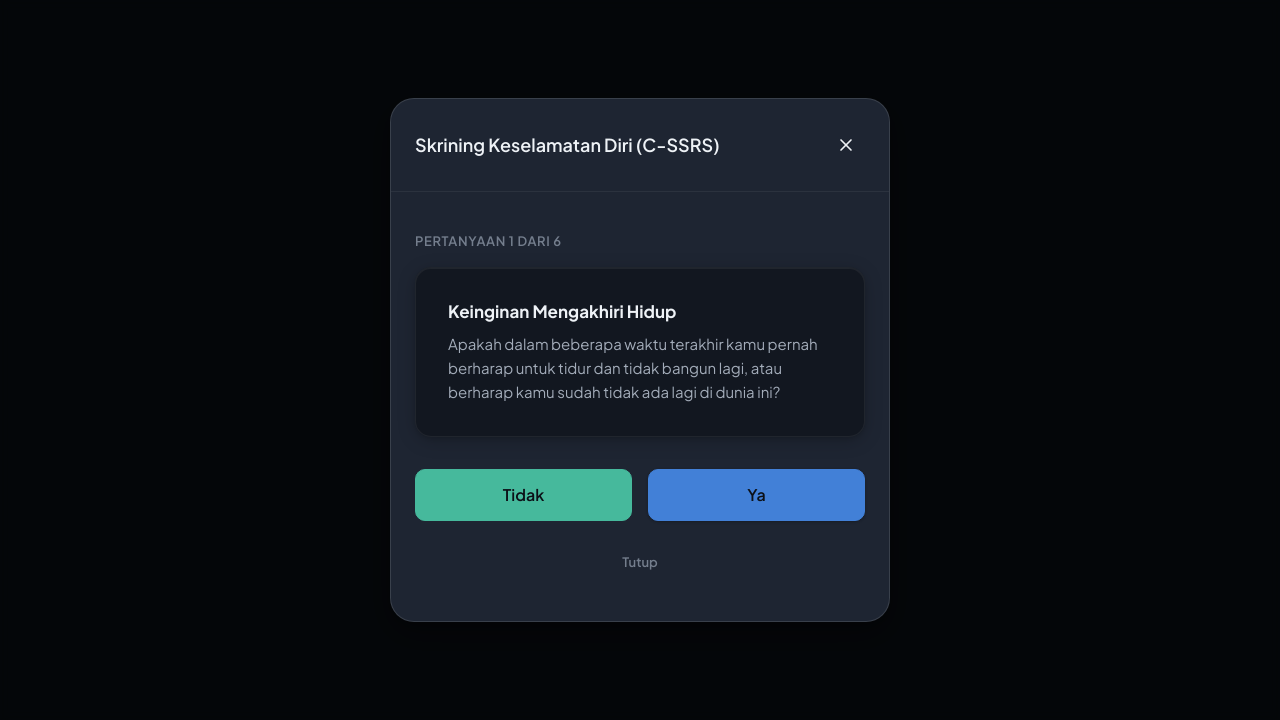
Test: CssrsWizardModal Component › follows skip logic when Q2 is answered "Tidak" (skips Q3-Q5 straight to Q6)
Click the button "Tidak" at point(524, 495), box [415,469,632,521]
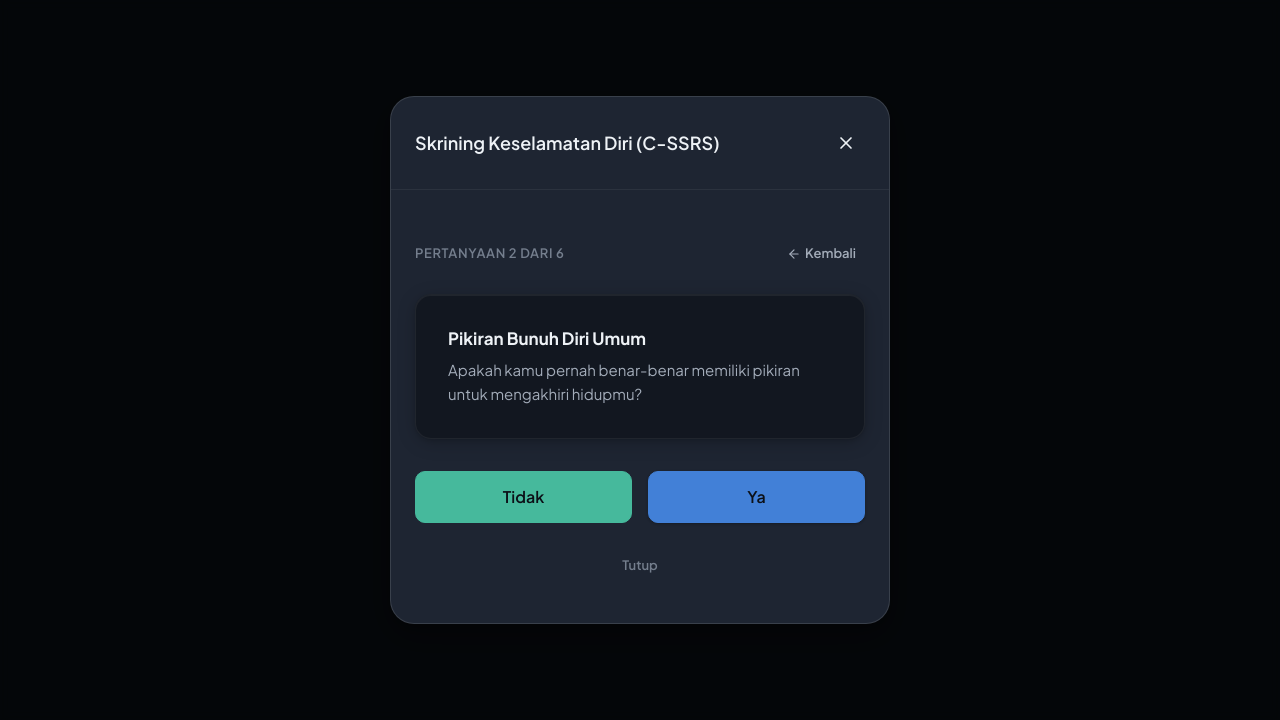
Check: the heading "Pikiran Bunuh Diri Umum" is shown, box [448,327,646,349]
Click the button "Tidak" at point(524, 497), box [415,471,632,523]
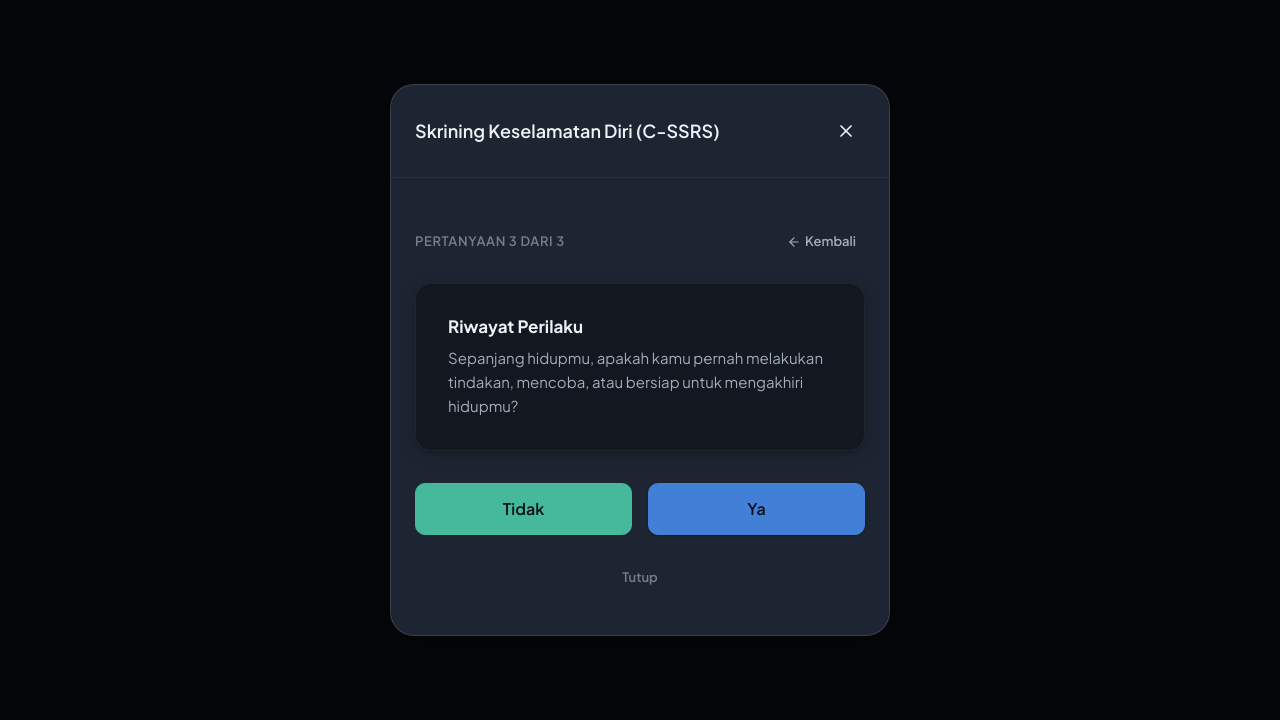
Check: the heading "Riwayat Perilaku" is shown, box [448,315,583,337]
Click the button "Tidak" at point(524, 509), box [415,483,632,535]
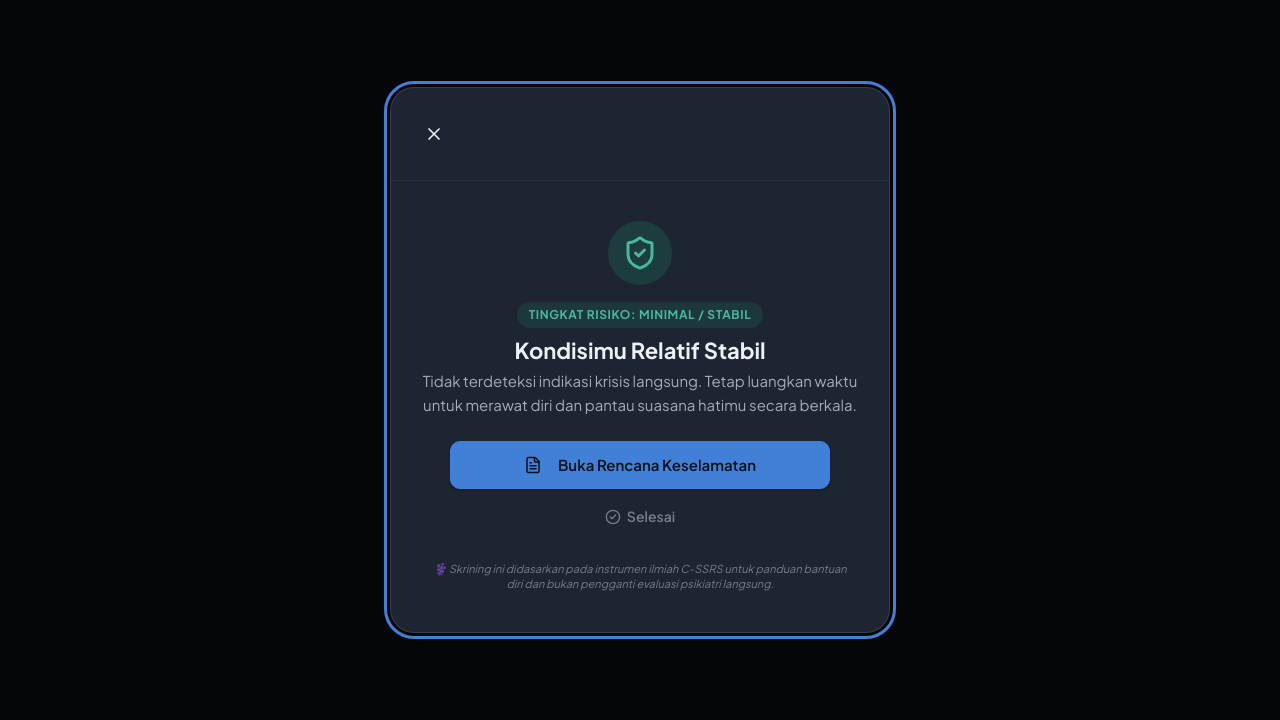
Check: the text "Tingkat Risiko: Minimal / Stabil" is shown, box [517,302,763,328]
Check: the heading "Kondisimu Relatif Stabil" is shown, box [514,336,766,364]
